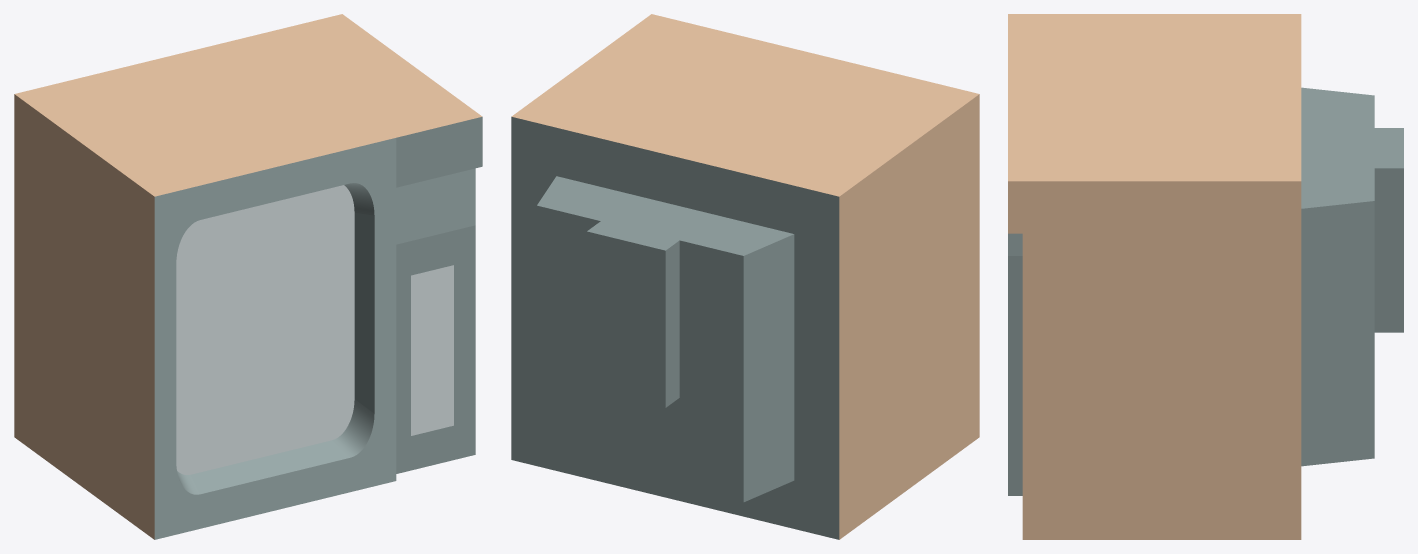
File: kn-television-vintage.glb
The picture shows the model from 3 angles, left to right: view 1: azimuth 30°, elevation 25°; view 2: azimuth 150°, elevation 25°; view 3: azimuth 270°, elevation 25°; orthographic projection. The views are drawn at different scales.
Visible parts, largest first — view 1: televisionVintage(Clone); view 2: televisionVintage(Clone); view 3: televisionVintage(Clone).
Part boxes in pixels (left/top/right/bottom): televisionVintage(Clone): left=14, top=14, right=482, bottom=539; televisionVintage(Clone): left=511, top=14, right=979, bottom=539; televisionVintage(Clone): left=1008, top=14, right=1403, bottom=539.
Bounding box in the file's own units: 1 × 1 × 1.
